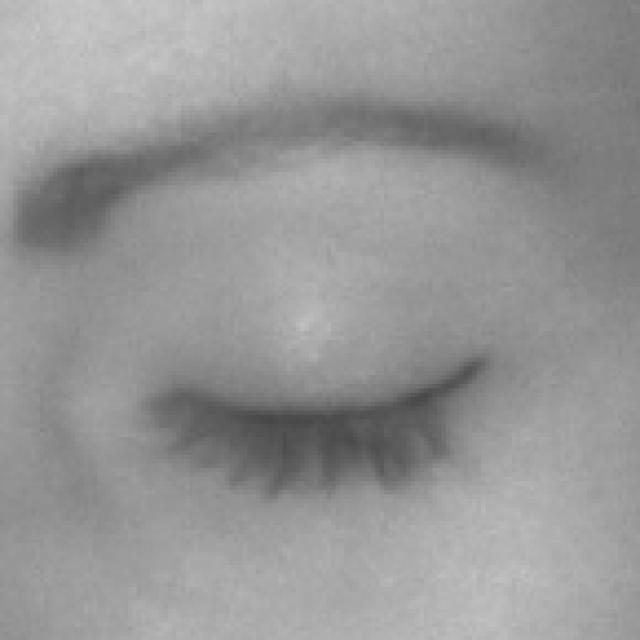close: (11, 62, 640, 586)
